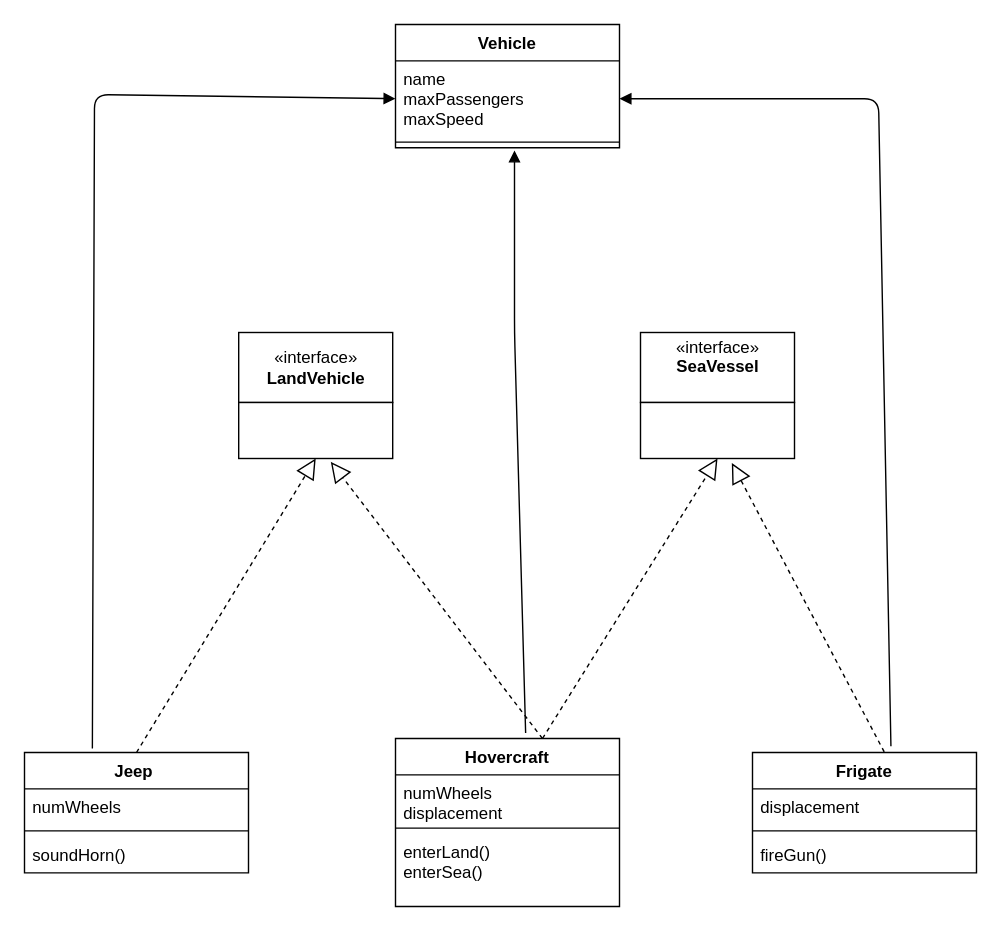
Some shapes in this 1001 by 935 pixel diagram are drawn without their labels. The shapes that lost their labels are listed below. From the top down, each one's centre as x and y in pixels, then its label:
(315,429): drive()
(716,429): launch()
